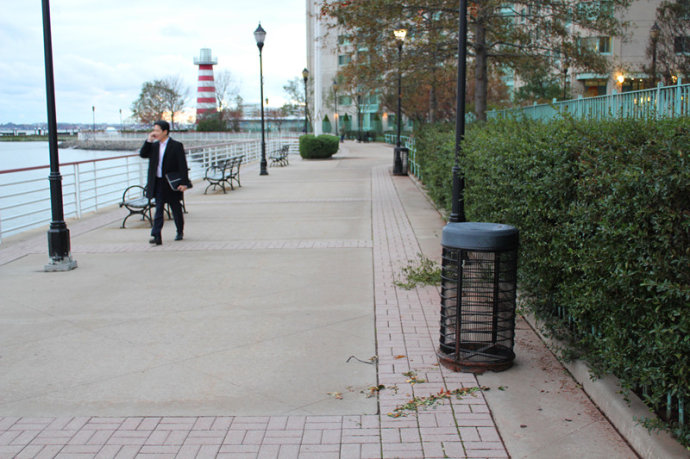handsup: (134, 115, 203, 248)
